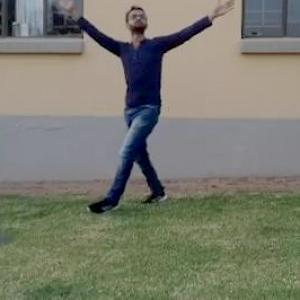takeoff: (53, 0, 227, 216)
